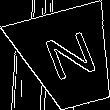N_S: (36, 28, 100, 89)
